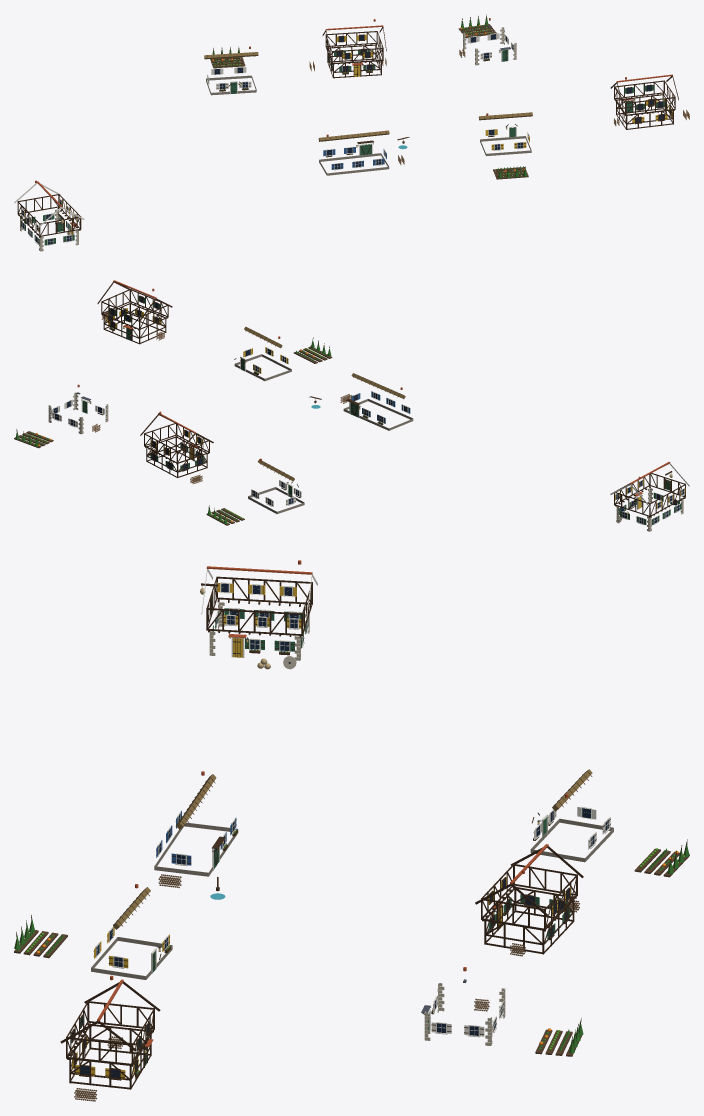
Rendered from SM_Millbrook_Detail_NoCol.fbx.
3 views of the same model, one above another, from view 1: azimuth 30°, elevation 25°; view 2: azimuth 150°, elevation 25°; view 3: azimuth 270°, elevation 25° (orthographic). The views are drawn at different scales.
Visible parts, largest first — view 1: SM_Millbrook_Detail_NoCol; view 2: SM_Millbrook_Detail_NoCol; view 3: SM_Millbrook_Detail_NoCol.
Boxes of the visible parts, left/top/right/bottom form: SM_Millbrook_Detail_NoCol: left=14, top=14, right=689, bottom=251; SM_Millbrook_Detail_NoCol: left=14, top=280, right=689, bottom=531; SM_Millbrook_Detail_NoCol: left=14, top=560, right=689, bottom=1101.
Size of the model in its own units: 111 by 11.57 by 62.93.
